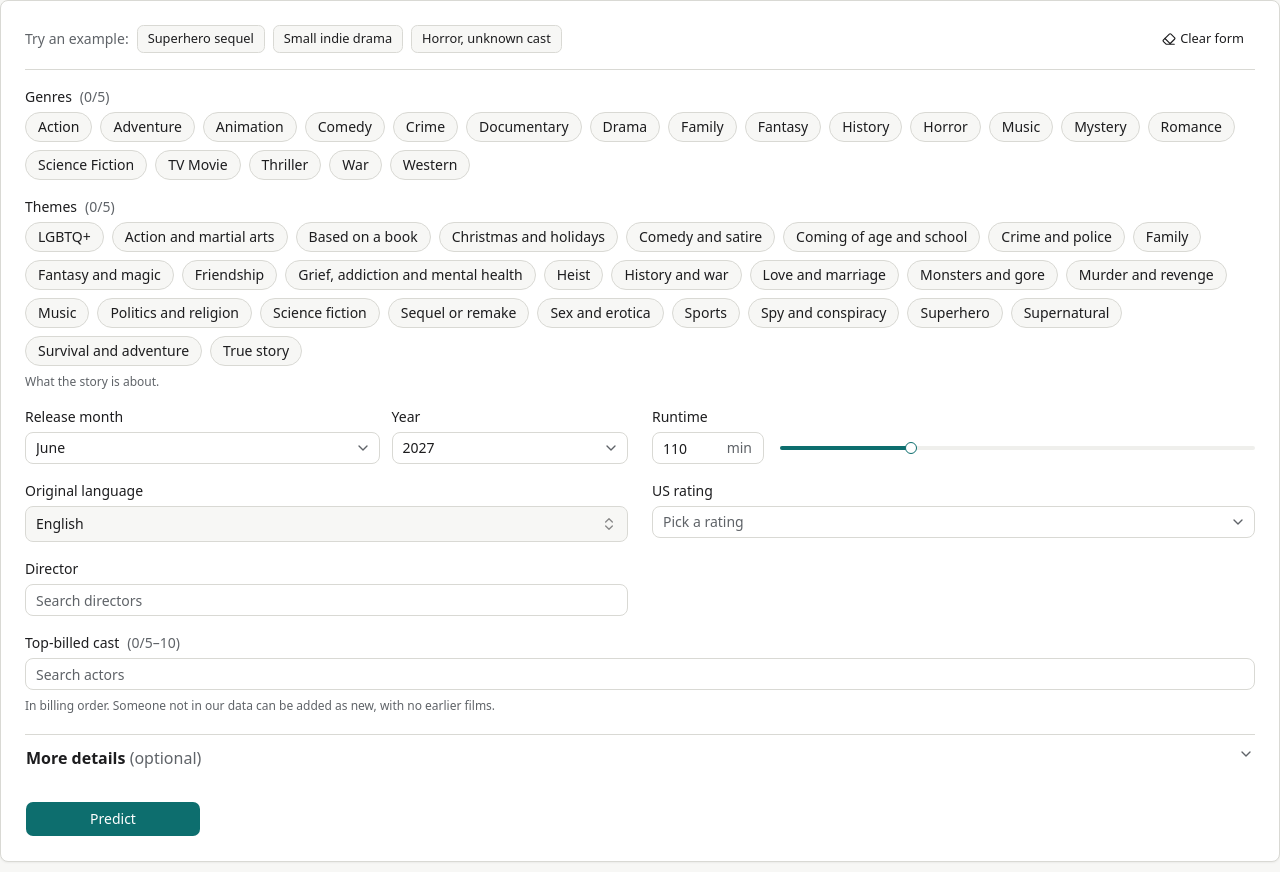
Scenario: validation blocks a bad form › a fresh form shows what is left to fill and sends nothing
Click the button "Predict": (113,819) [25, 801, 201, 837]
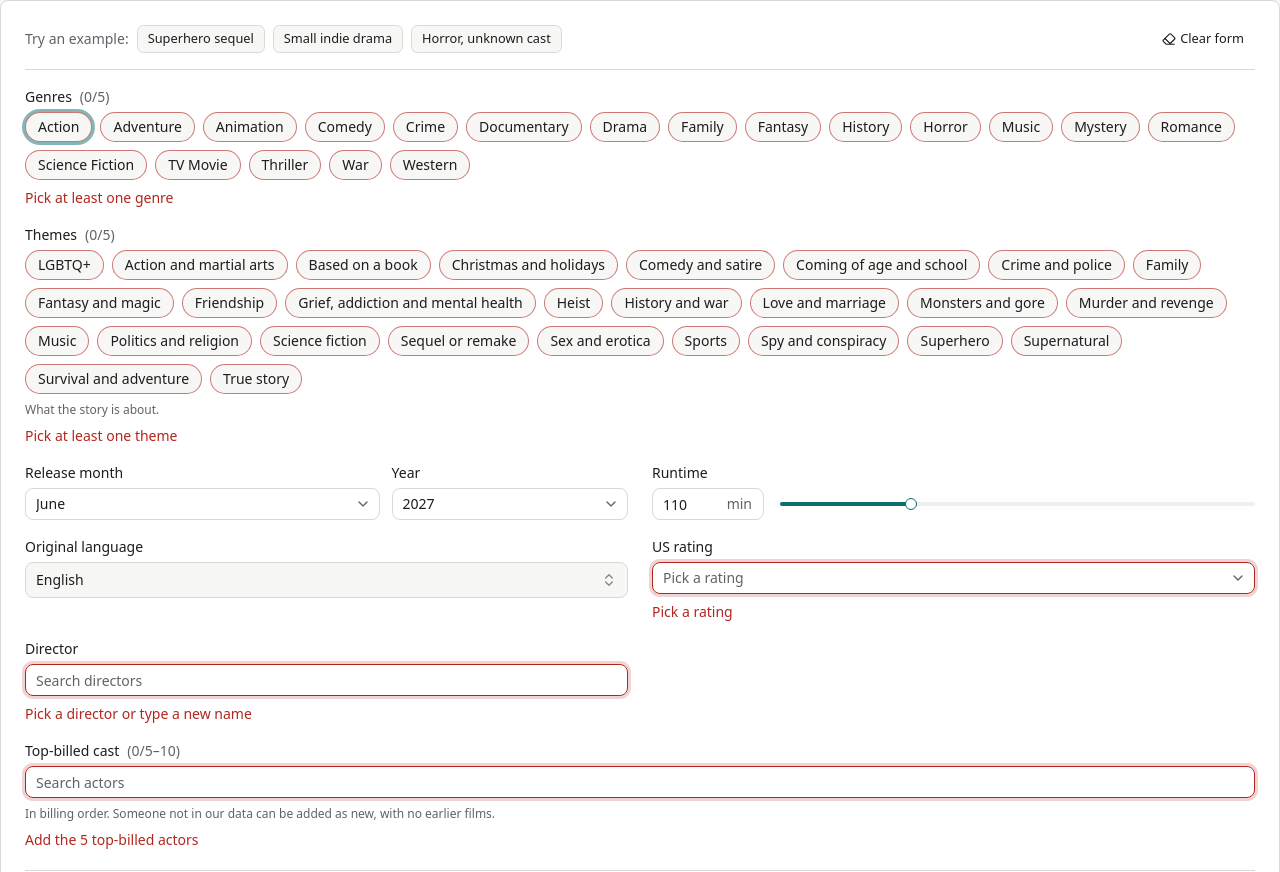
Expected: the text "Pick at least one genre" is shown, [25, 188, 174, 207]
Expected: the message "Pick a director or type a new name" is shown, [25, 704, 252, 723]
Expected: the message "Add the 5 top-billed actors" is shown, [25, 830, 198, 849]
